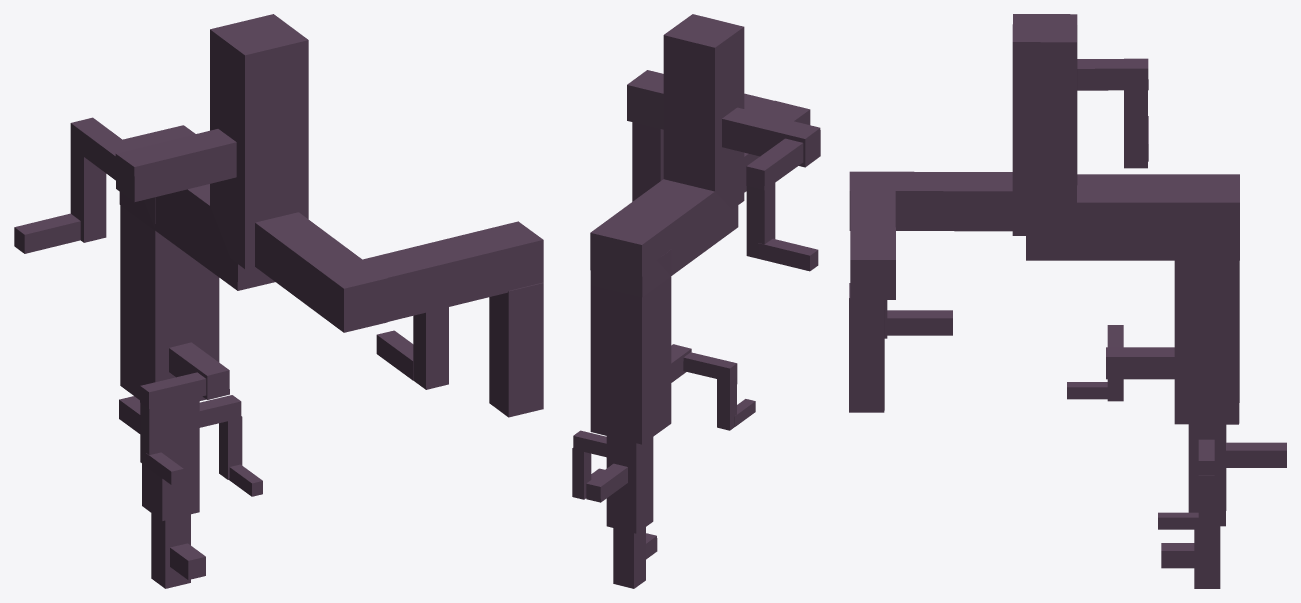
3 renders of one model, left to right at view 1: azimuth 30°, elevation 25°; view 2: azimuth 150°, elevation 25°; view 3: azimuth 270°, elevation 25°, orthographic. The views are drawn at different scales.
Visible parts, largest first — view 1: Cube.059, Cube.015, Cube.057, Cube.058, Cube.054, Cube.016, Cube.012, Cube.021, Cube.010, Cube.013, Cube.023, Cube.011 (+10 smaller); view 2: Cube.059, Cube.015, Cube.016, Cube.021, Cube.012, Cube.057, Cube.054, Cube.010, Cube.011, Cube.023, Cube.009, Cube.018 (+7 smaller); view 3: Cube.016, Cube.059, Cube.015, Cube.058, Cube.057, Cube.054, Cube.021, Cube.011, Cube.017, Cube.010, Cube.014, Cube.023 (+6 smaller).
Boxes of the visible parts, box(x1,y1,x2,y2) form: Cube.059: box(210, 14, 308, 269); Cube.015: box(120, 197, 219, 409); Cube.057: box(363, 221, 543, 321); Cube.058: box(255, 212, 387, 332); Cube.054: box(489, 282, 543, 417); Cube.016: box(119, 125, 274, 290); Cube.012: box(115, 129, 236, 202); Cube.021: box(142, 401, 199, 520); Cube.010: box(70, 147, 106, 242); Cube.013: box(413, 307, 448, 389); Cube.023: box(151, 513, 190, 588); Cube.011: box(70, 117, 134, 180); Cube.059: box(663, 14, 744, 209); Cube.015: box(590, 249, 671, 444); Cube.016: box(590, 179, 738, 297); Cube.021: box(606, 436, 653, 533); Cube.012: box(722, 107, 820, 167); Cube.057: box(627, 70, 773, 129); Cube.054: box(632, 122, 663, 201); Cube.010: box(746, 183, 775, 258); Cube.011: box(746, 138, 803, 190); Cube.023: box(613, 527, 645, 588); Cube.009: box(758, 238, 818, 271); Cube.018: box(683, 352, 737, 381); Cube.016: box(1026, 174, 1239, 260); Cube.059: box(1012, 14, 1077, 235); Cube.015: box(1174, 230, 1239, 424); Cube.058: box(849, 171, 1012, 231); Cube.057: box(850, 191, 895, 299); Cube.054: box(849, 283, 884, 412); Cube.021: box(1188, 424, 1226, 526); Cube.011: box(1077, 58, 1148, 90); Cube.017: box(1106, 347, 1174, 379); Cube.010: box(1124, 90, 1147, 168); Cube.014: box(887, 310, 952, 335); Cube.023: box(1194, 526, 1220, 588).
Size of the model in its own units: 1.51 by 2.42 by 1.73.
